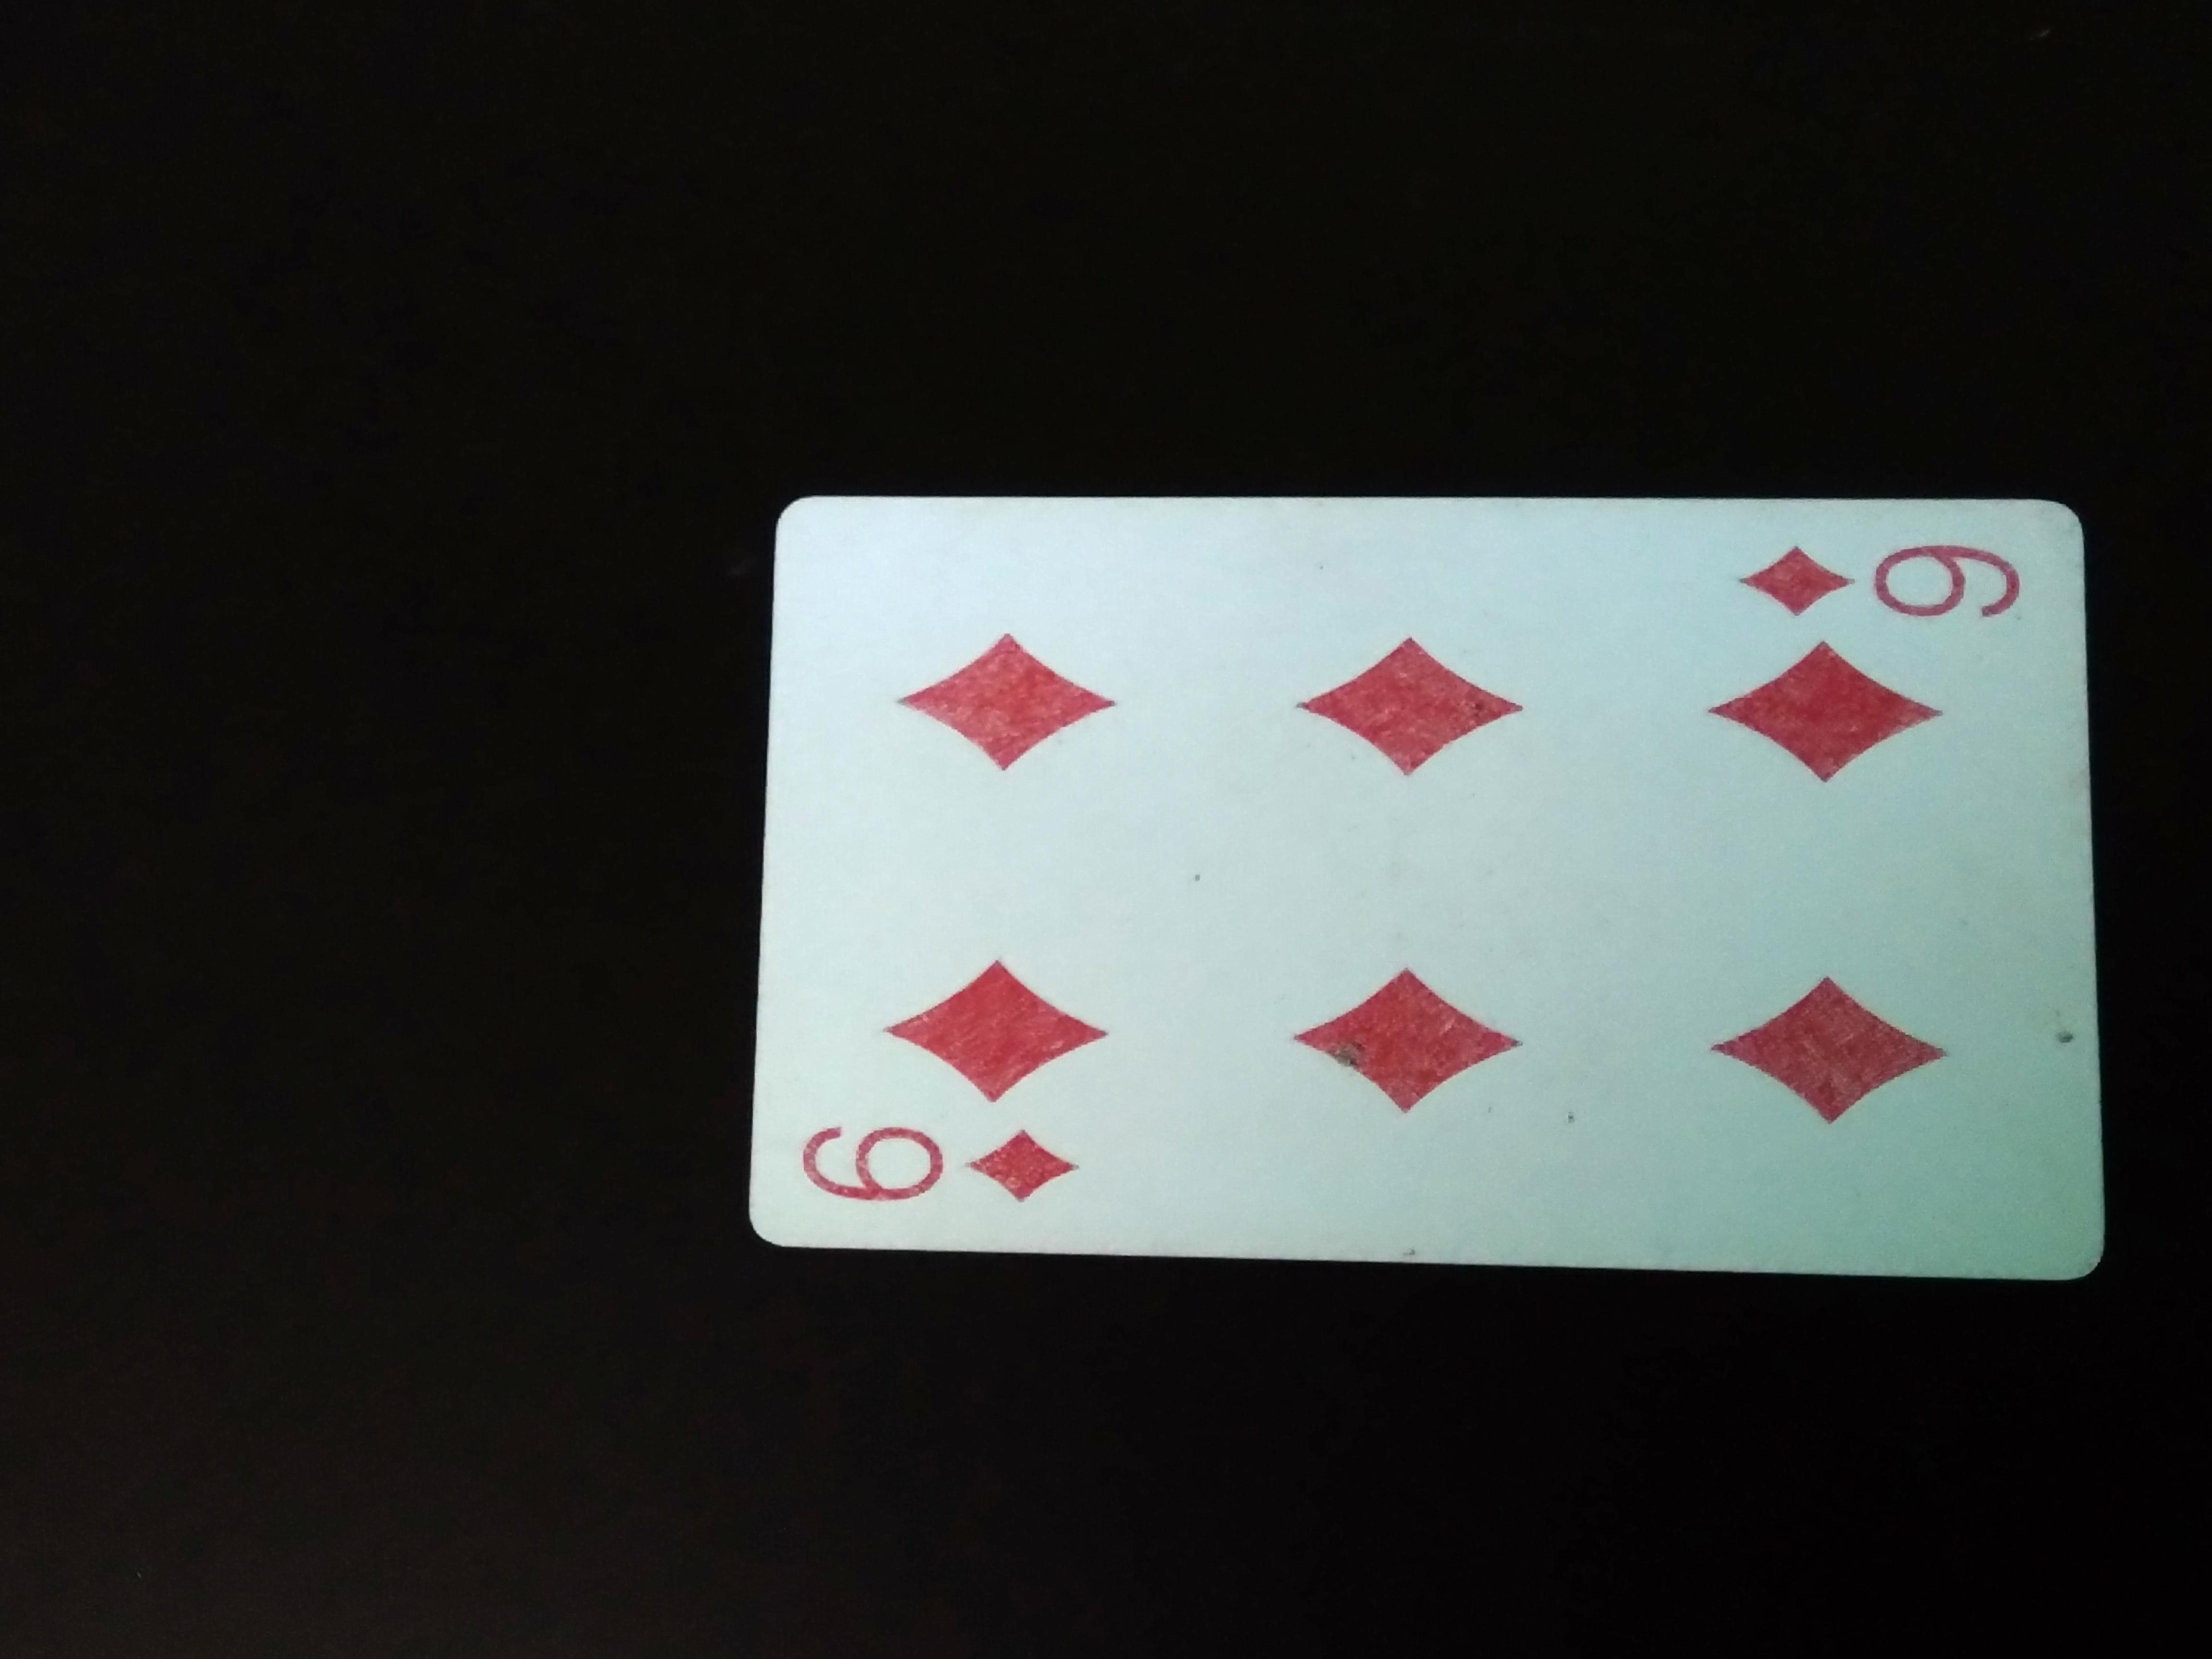6D: (754, 1110, 1146, 1241)
